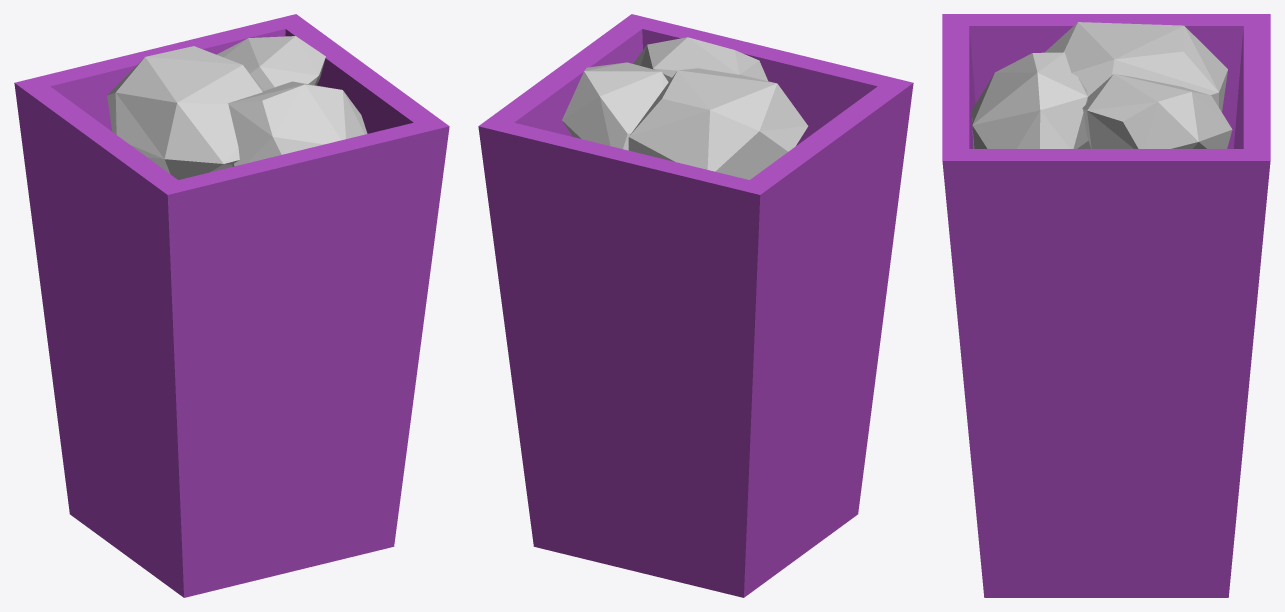
The model's file is Dirty.fbx.
The picture shows the model from 3 angles, left to right: view 1: azimuth 30°, elevation 25°; view 2: azimuth 150°, elevation 25°; view 3: azimuth 270°, elevation 25°; orthographic projection. The views are drawn at different scales.
Visible parts, largest first — view 1: Dirty-Clothes; view 2: Dirty-Clothes; view 3: Dirty-Clothes.
Boxes of the visible parts, x1,y1,x2,y2 form: Dirty-Clothes: (14, 14, 449, 597); Dirty-Clothes: (478, 14, 913, 597); Dirty-Clothes: (942, 14, 1270, 597).
Bounding box in the file's own units: 0.7855 × 1.22 × 0.7403.
